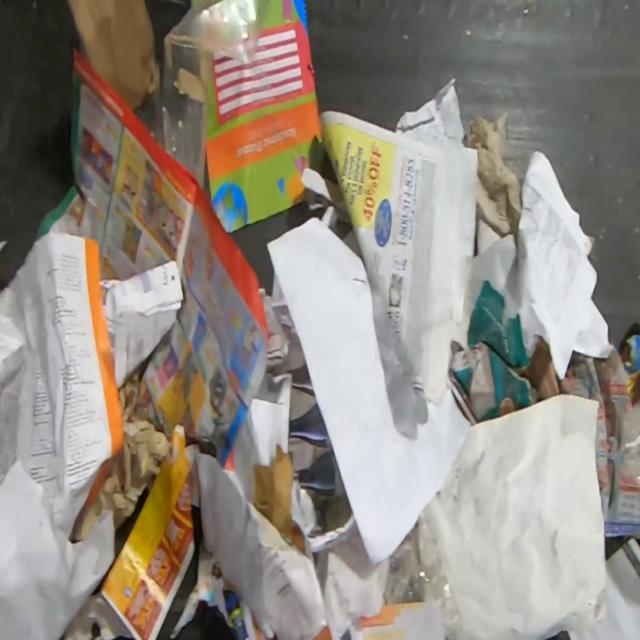cardboard: (67, 0, 161, 110), (251, 442, 294, 541)
soft_plastic: (382, 503, 465, 640)
